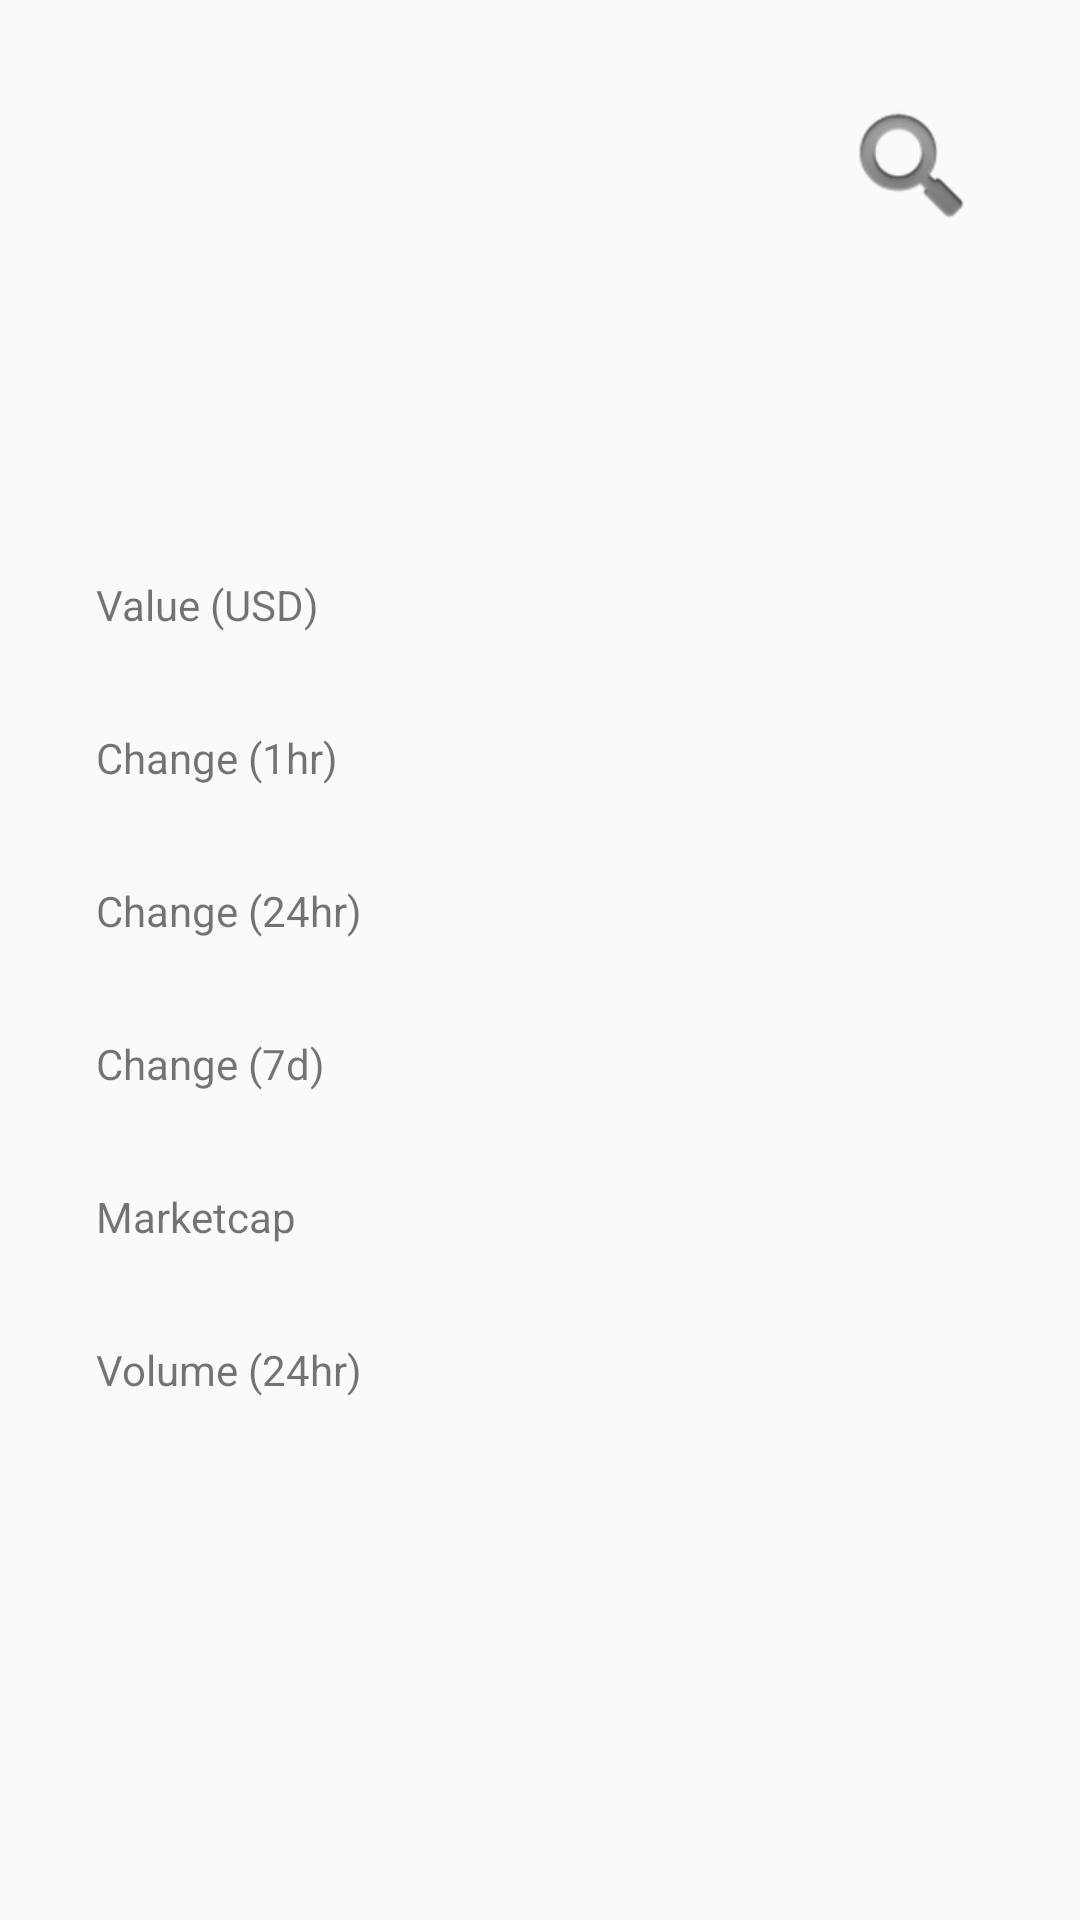

Screen size 1080 x 1920. Icon name, then its box in pixels as (x1, y1, x2, y2):
search category: (859, 113, 963, 217)
